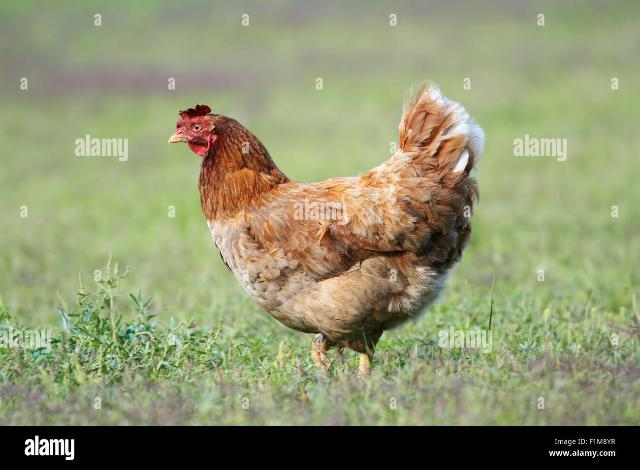Chicken: (169, 80, 483, 371)
